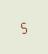five: (19, 20, 27, 33)
